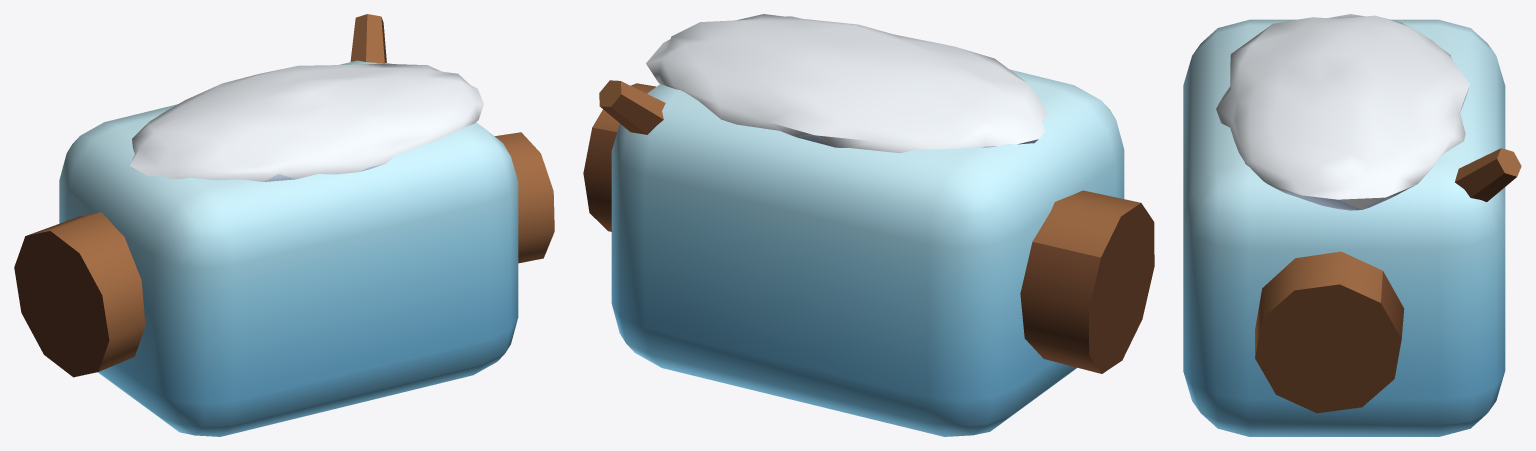
The model's file is FrozenLog.fbx.
3 renders of one model, left to right at view 1: azimuth 30°, elevation 25°; view 2: azimuth 150°, elevation 25°; view 3: azimuth 270°, elevation 25°, orthographic. The views are drawn at different scales.
Visible parts, largest first — view 1: FrozenLog; view 2: FrozenLog; view 3: FrozenLog.
Boxes of the visible parts, x1,y1,x2,y2 form: FrozenLog: (14, 14, 554, 436); FrozenLog: (583, 14, 1154, 436); FrozenLog: (1183, 14, 1521, 436).
Size of the model in its own units: 1.44 by 0.8092 by 0.82.
Materials: 1 (1 with a texture image).
